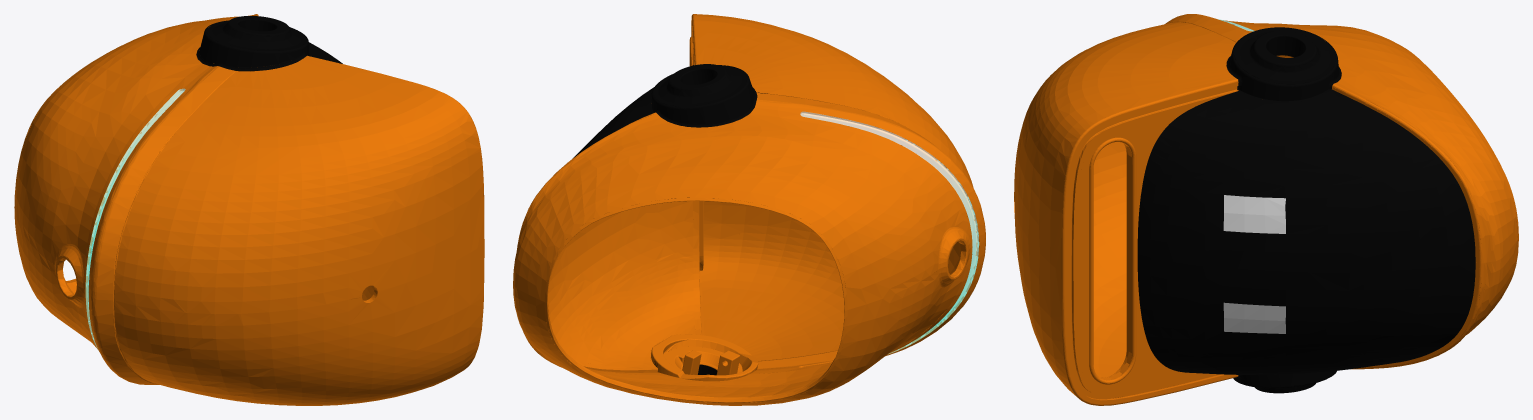
Rendered from head_pitch.glb.
3 renders of one model, left to right at view 1: azimuth 30°, elevation 25°; view 2: azimuth 150°, elevation 25°; view 3: azimuth 270°, elevation 25°, orthographic. The views are drawn at different scales.
Parts seen in each view (by area): view 1: head, light; view 2: head, light; view 3: head.
Part boxes in pixels (box(x1,y1,x2,y2)): head: box(14, 14, 484, 405); light: box(85, 88, 185, 348); head: box(513, 14, 985, 405); light: box(800, 111, 979, 354); head: box(1014, 14, 1518, 405).
Bounding box in the file's own units: 0.1827 × 0.1693 × 0.224.
